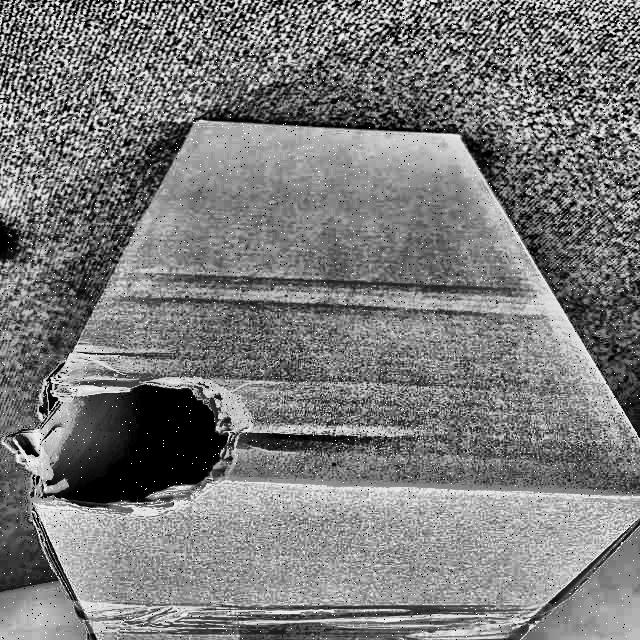box: (0, 107, 639, 640)
hole: (22, 378, 224, 510)
